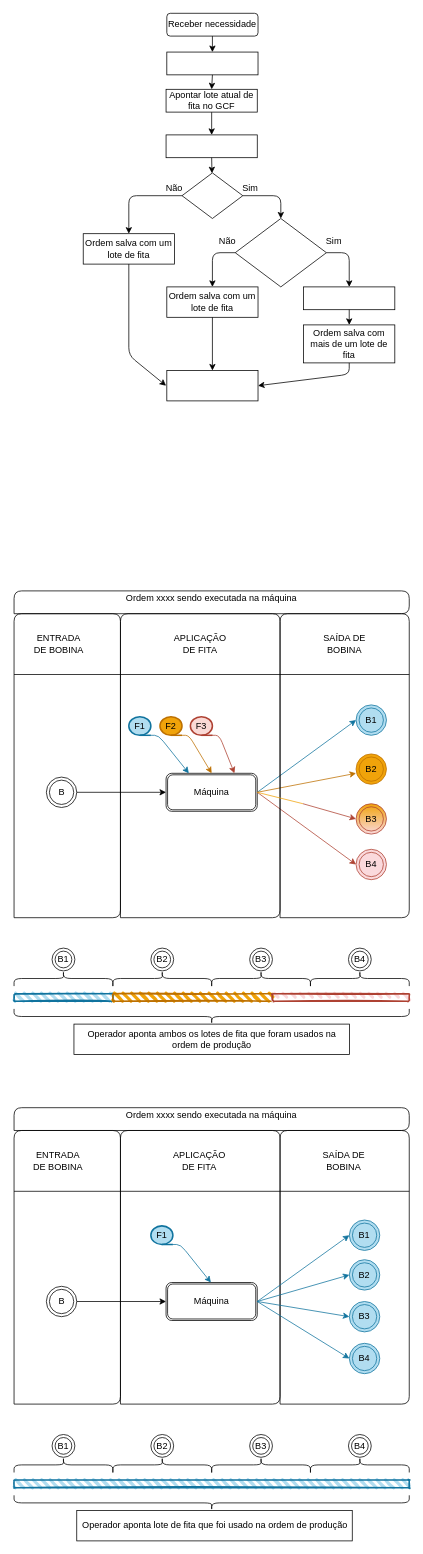
Image size: 423x1554. Some labels were removed from this diagram. The shapes that lost their labels are listed below. From the top down, each one's centre as x and y in pixels, then its label:
pixel 212 63: Realizar programação
pixel 211 146: Realizar operação descrita na ordem
pixel 212 195: Máquina parou?
pixel 280 252: Adicionar novo lote de fita?
pixel 349 298: Apontar novo lote de fita no GCF
pixel 212 385: Dar continuidade na ordem
